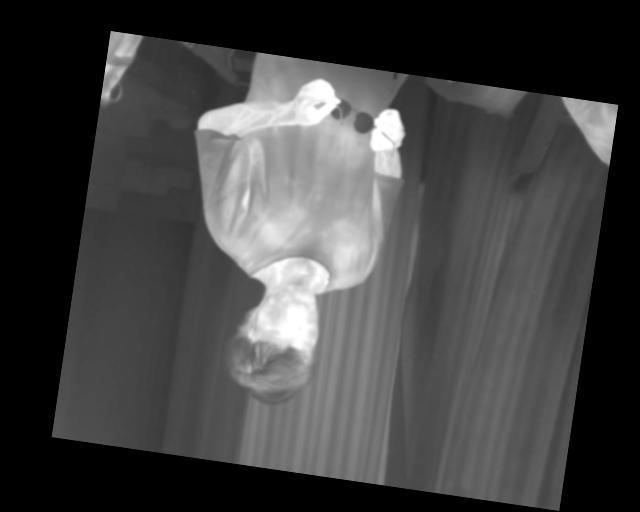face: (218, 274, 328, 411)
